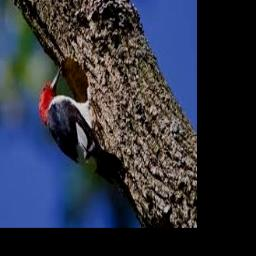Woodpecker: (39, 67, 125, 193)
